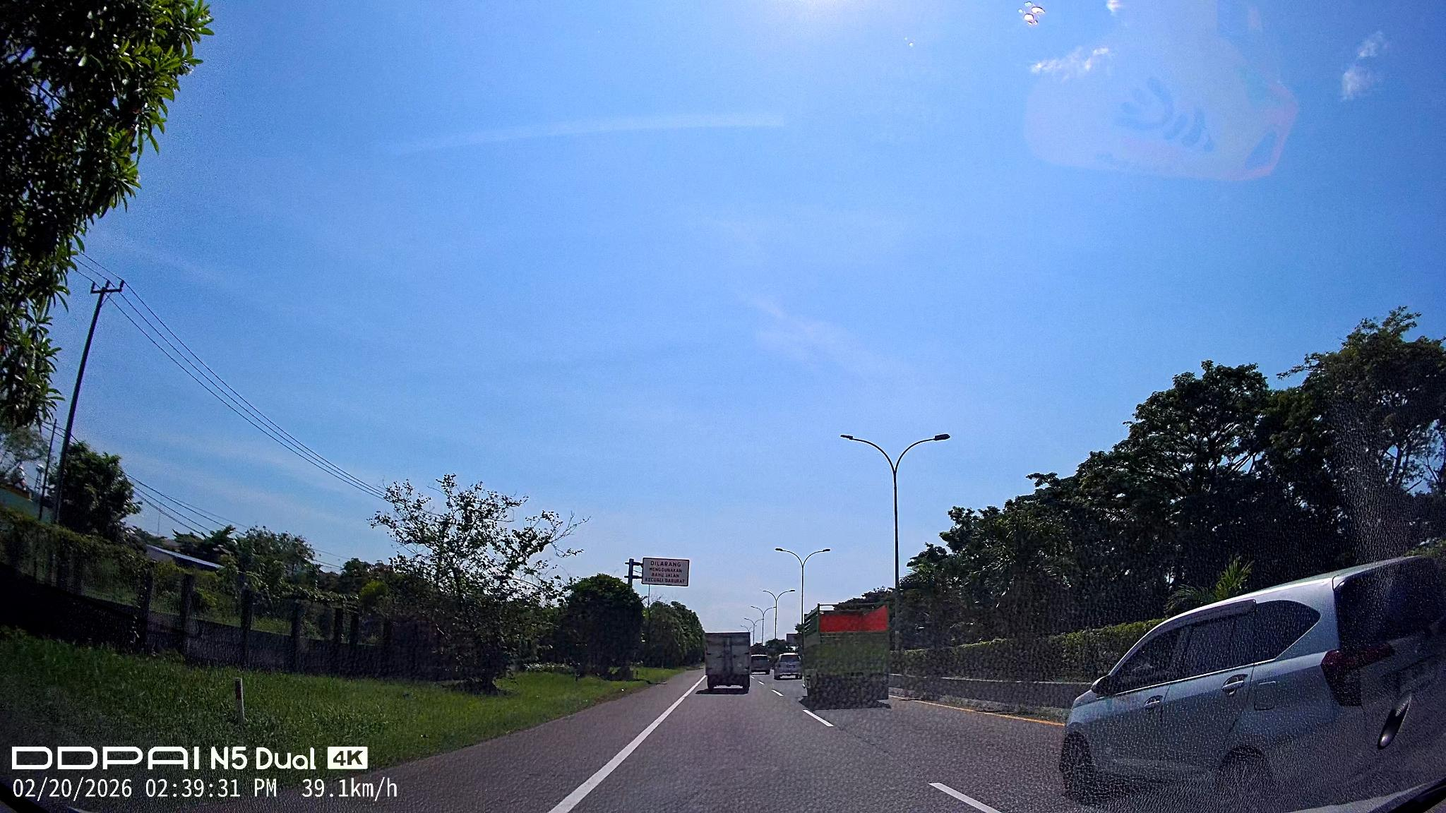rambu_teks: (640, 556, 690, 588)
